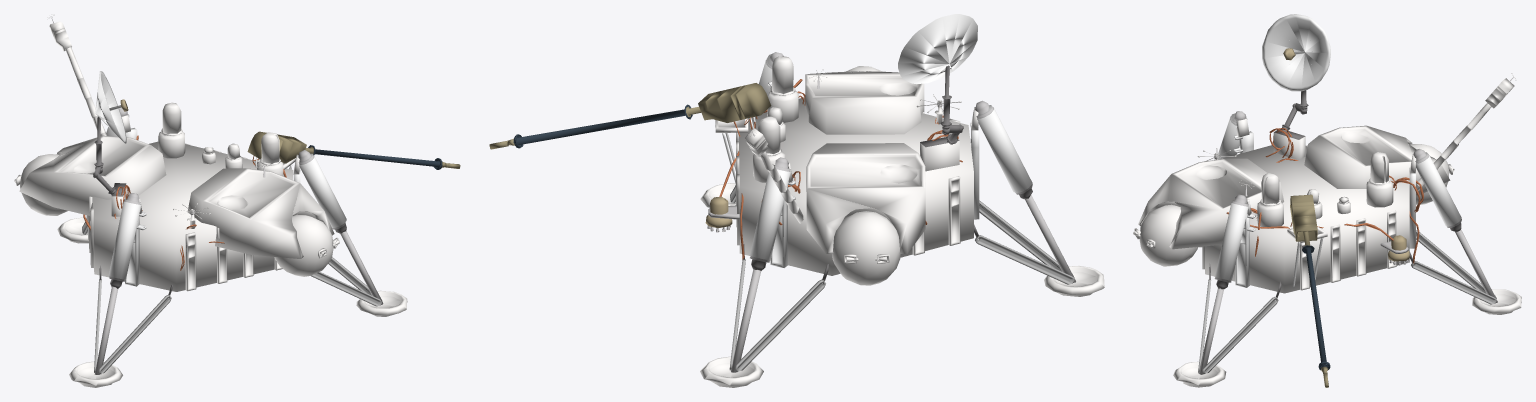
File: viking-lander-craft.glb
3 renders of one model, left to right at view 1: azimuth 30°, elevation 25°; view 2: azimuth 150°, elevation 25°; view 3: azimuth 270°, elevation 25°, orthographic. The views are drawn at different scales.
Visible parts, largest first — view 1: craft; view 2: craft; view 3: craft.
Boxes of the visible parts, x1,y1,x2,y2 form: craft: [14, 14, 460, 387]; craft: [489, 14, 1104, 387]; craft: [1133, 14, 1521, 387].
Size of the model in its own units: 3.4 by 1.82 by 2.55.
1 material, 1 textured.
